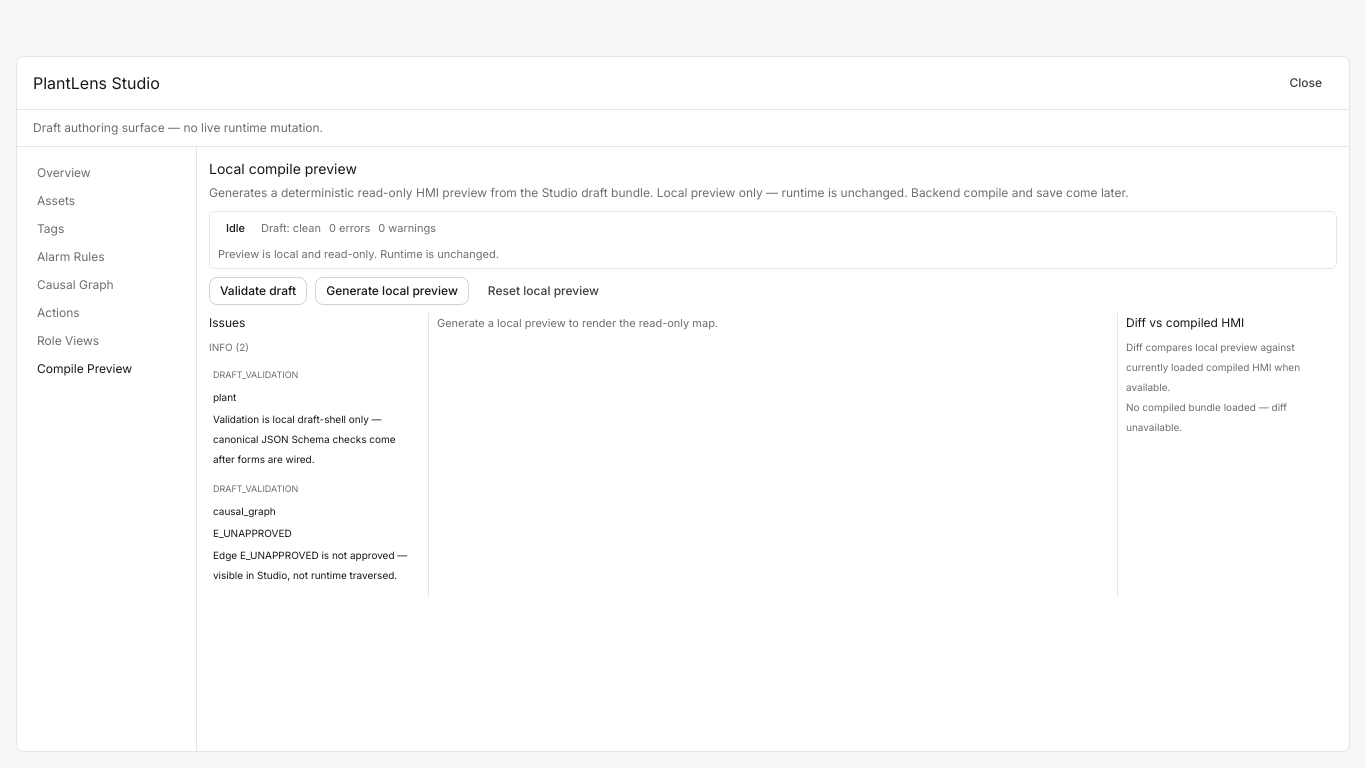
StudioLaunchpad › compile_preview route renders CompilePreviewWorkbench
Check: the heading "Local compile preview" is shown, box [209, 160, 357, 177]
Click the button "Generate local preview" at (392, 291), box [315, 277, 469, 305]
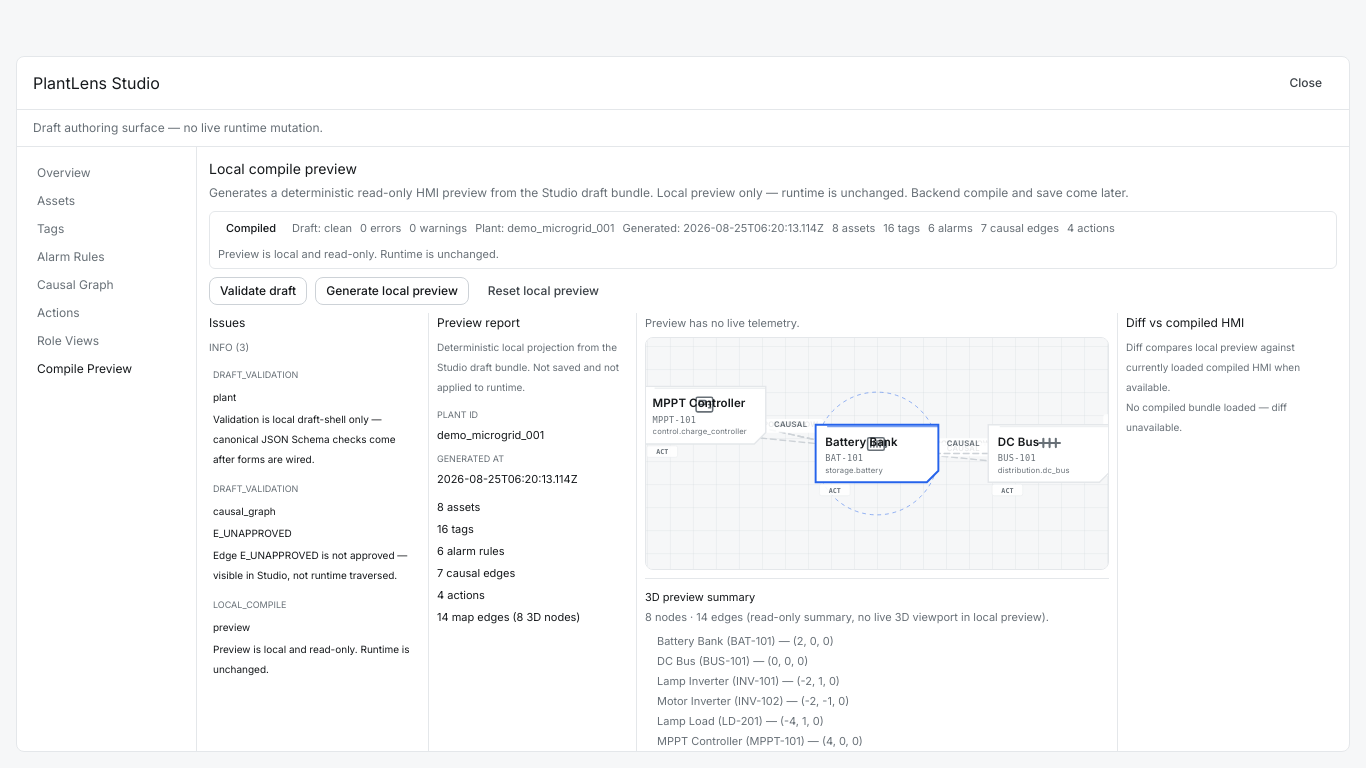
Check: the text "Compiled" is shown, box [218, 216, 284, 240]
